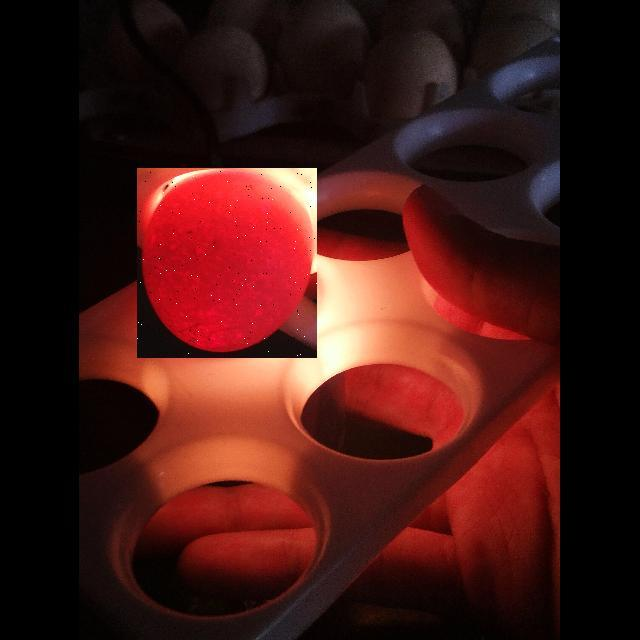Infertile: (137, 168, 317, 358)
